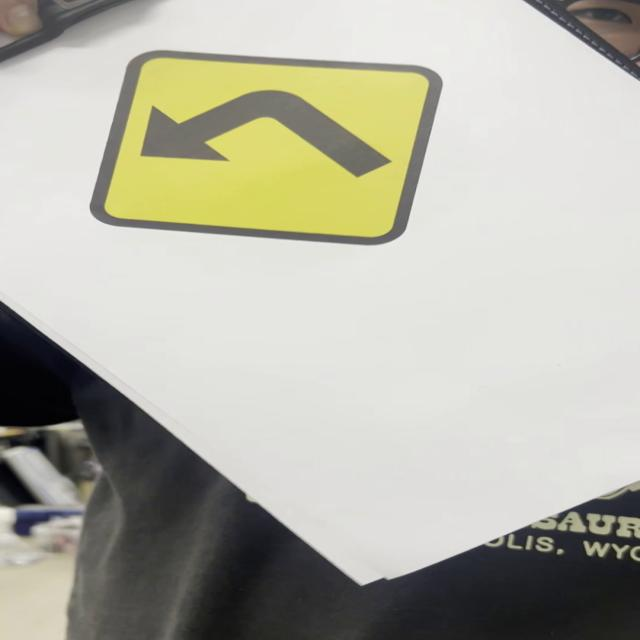left: (92, 51, 450, 244)
